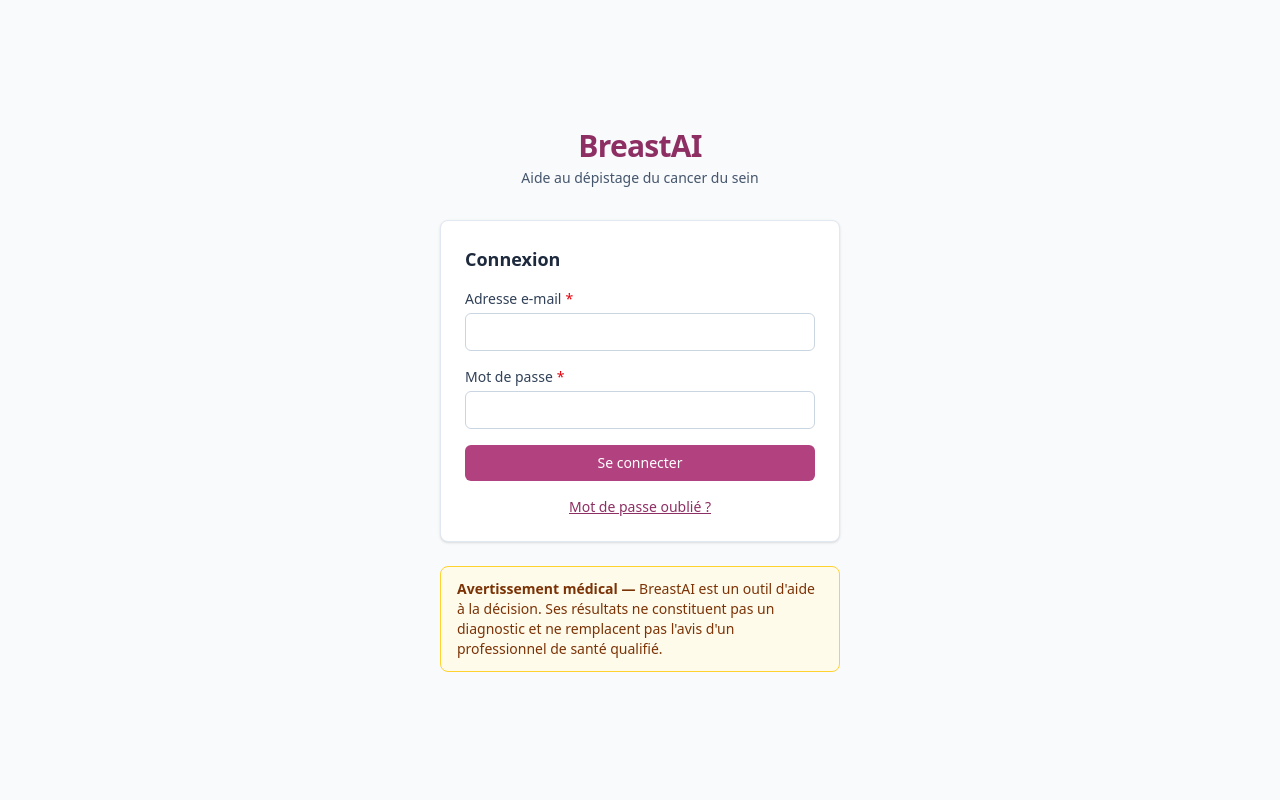
Test case: Connexion › connecte un utilisateur et affiche son accueil
Type "medecin@breastai.td" into the field labelled "Adresse e-mail*". click: [640, 332]
box: [465, 313, 815, 351]
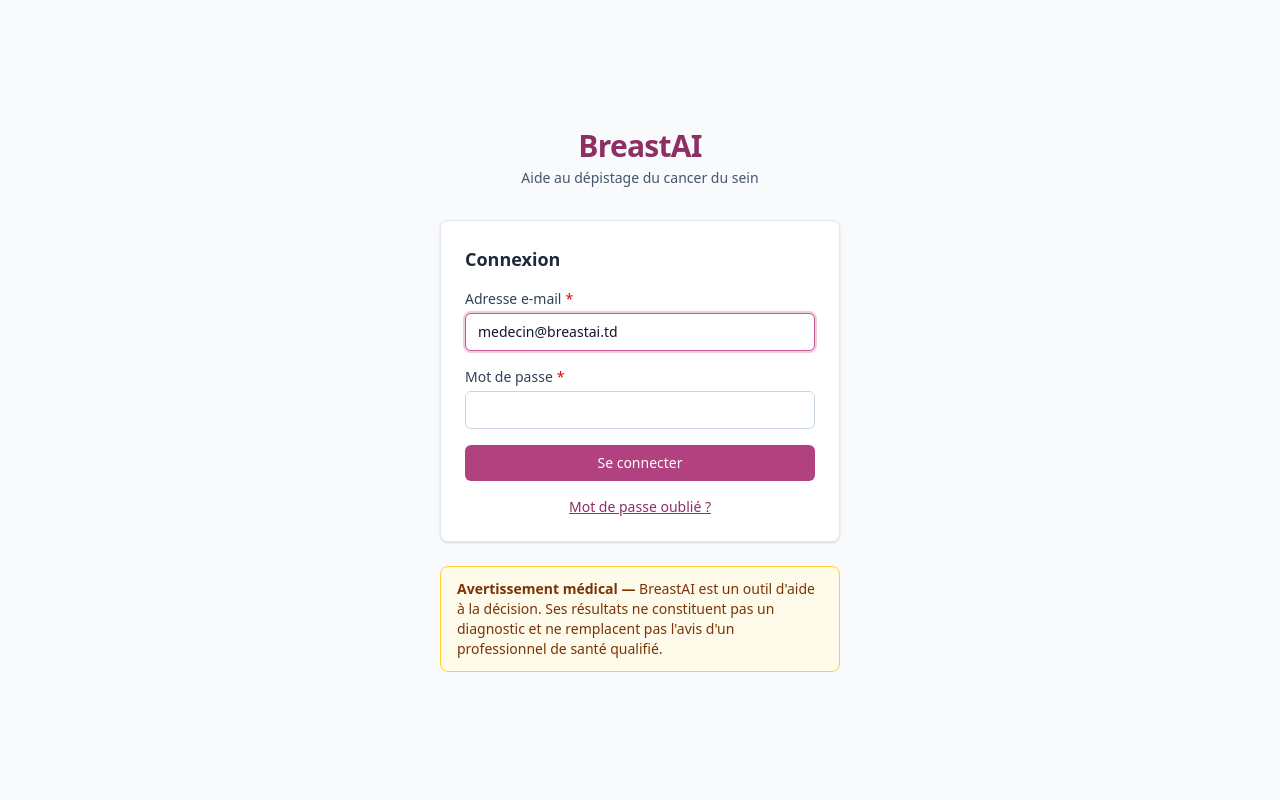
Type "MotDePasseTest-2026" into the password field labelled "Mot de passe*". click: [640, 410]
box: [465, 391, 815, 429]
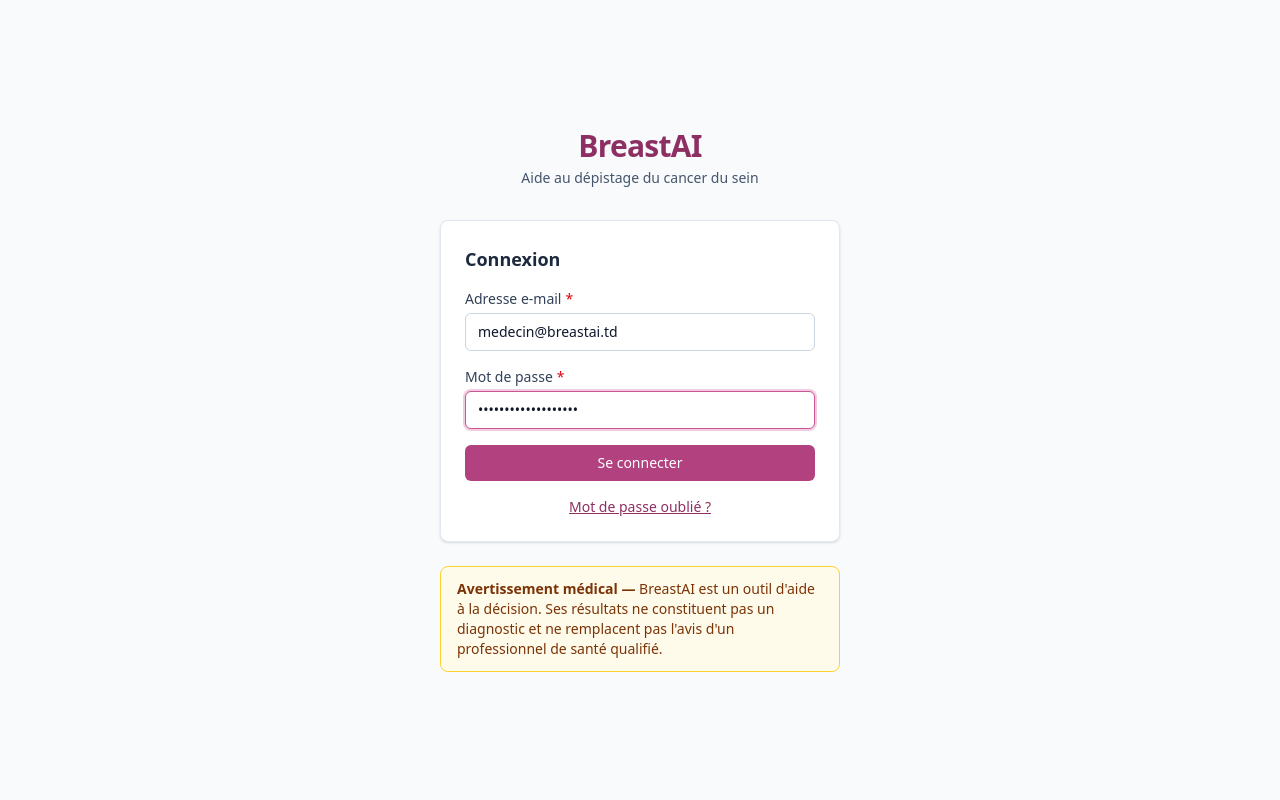
Click the button "Se connecter". click: [640, 463]
box: [465, 445, 815, 481]
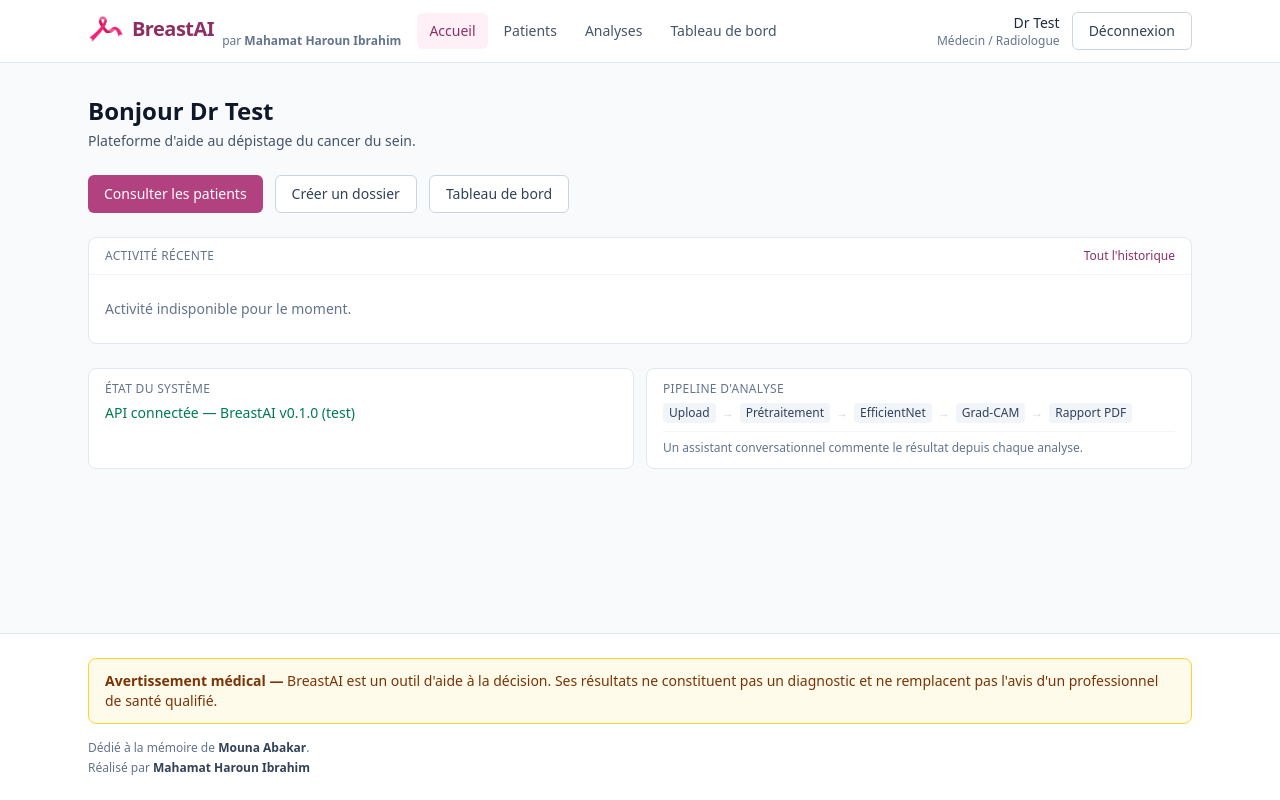
Check: the heading "Bonjour Dr Test" is shown, box [88, 94, 274, 127]
